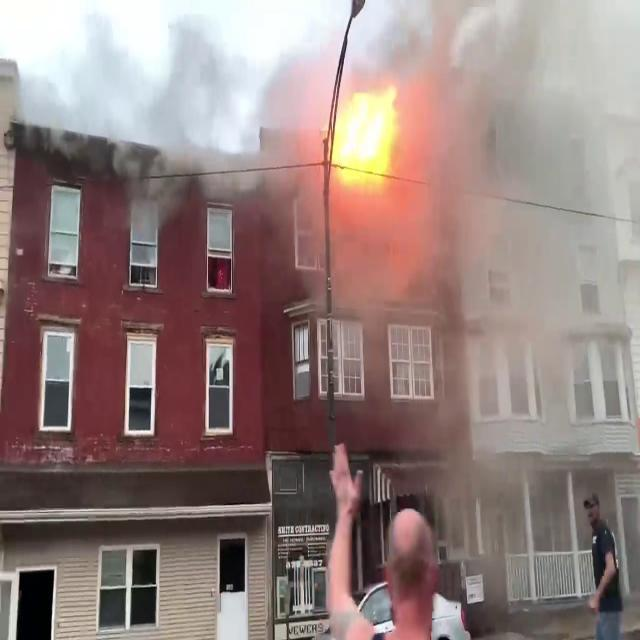Fire: (324, 79, 406, 190)
Smoke: (328, 0, 635, 373), (132, 2, 330, 224)
